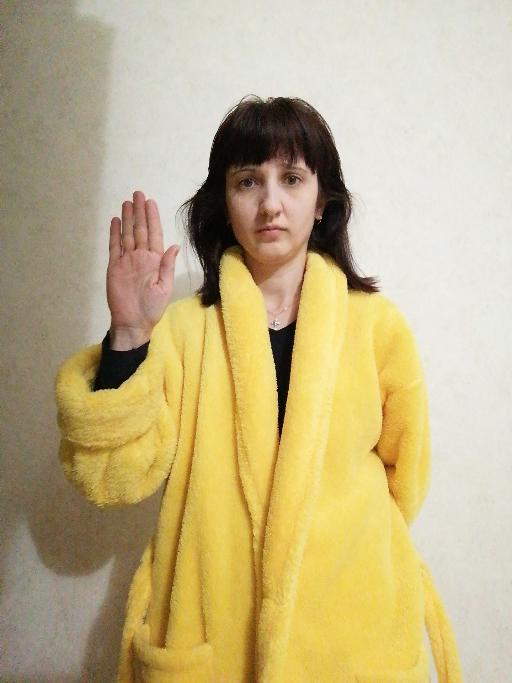stop: (103, 187, 181, 331)
